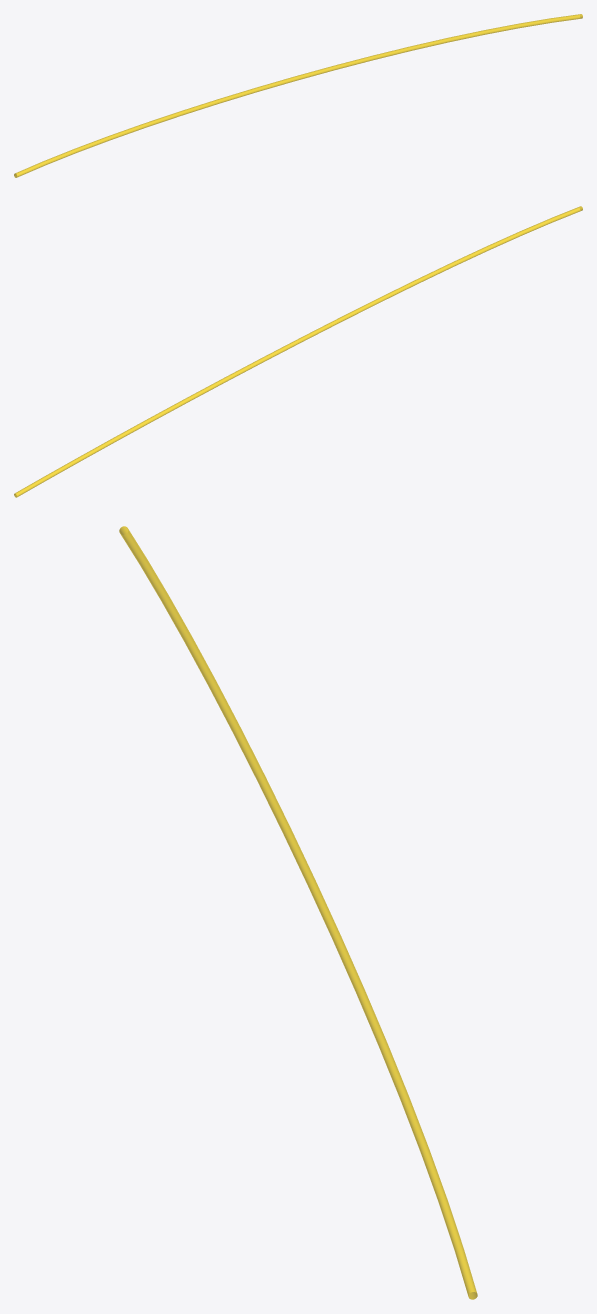
Rendered from Event_419990632_track_32.fbx.
3 views of the same model, one above another, from view 1: azimuth 30°, elevation 25°; view 2: azimuth 210°, elevation 25°; view 3: azimuth 270°, elevation 25° (orthographic). The views are drawn at different scales.
Parts seen in each view (by area): view 1: Model; view 2: Model; view 3: Model.
Boxes of the visible parts, bbox=[...] form: Model: bbox=[14, 14, 582, 177]; Model: bbox=[14, 206, 582, 497]; Model: bbox=[119, 526, 477, 1299].
Size of the model in its own units: 6.4 by 0.6416 by 1.52.
